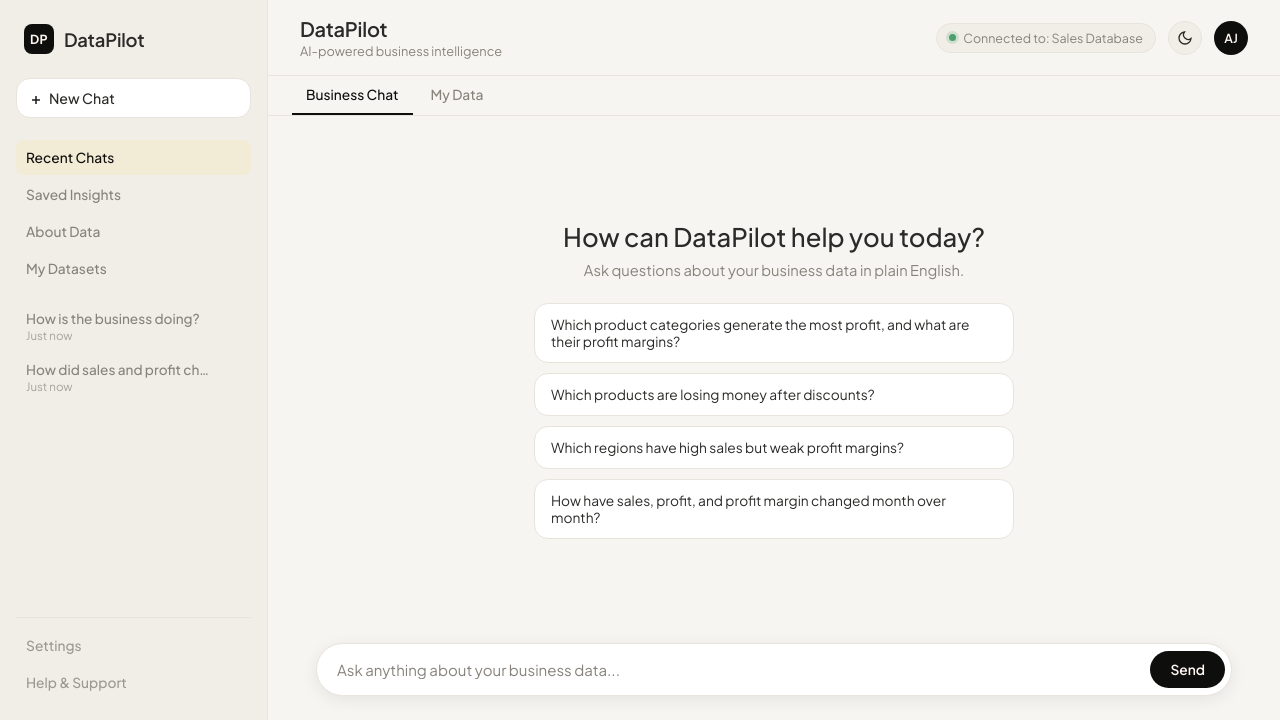
Test: clarification responses › sends the original question with a clarification reply
Step 1. Type "How is the business doing?" into the field with placeholder "Ask anything about your business data..." → coordinates (739, 670), box [337,650,1140,689]
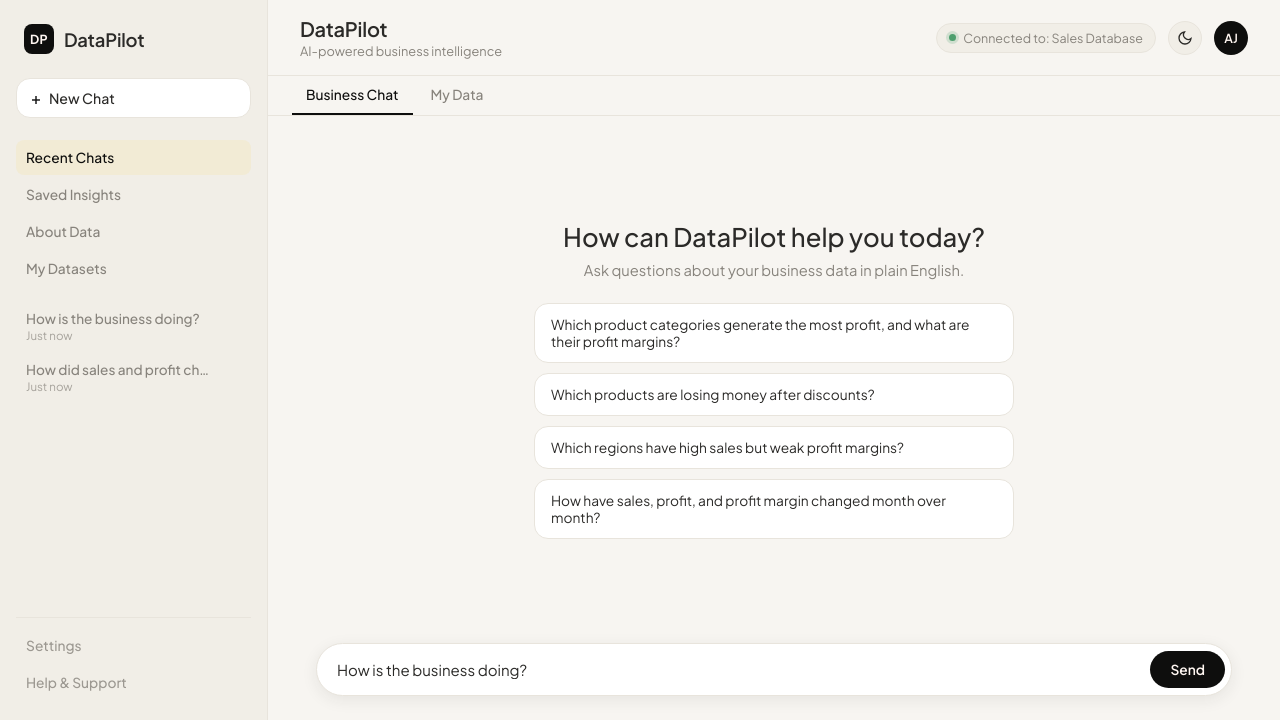
Step 2. Click the button "Send" → coordinates (1188, 670), box [1150,651,1225,688]
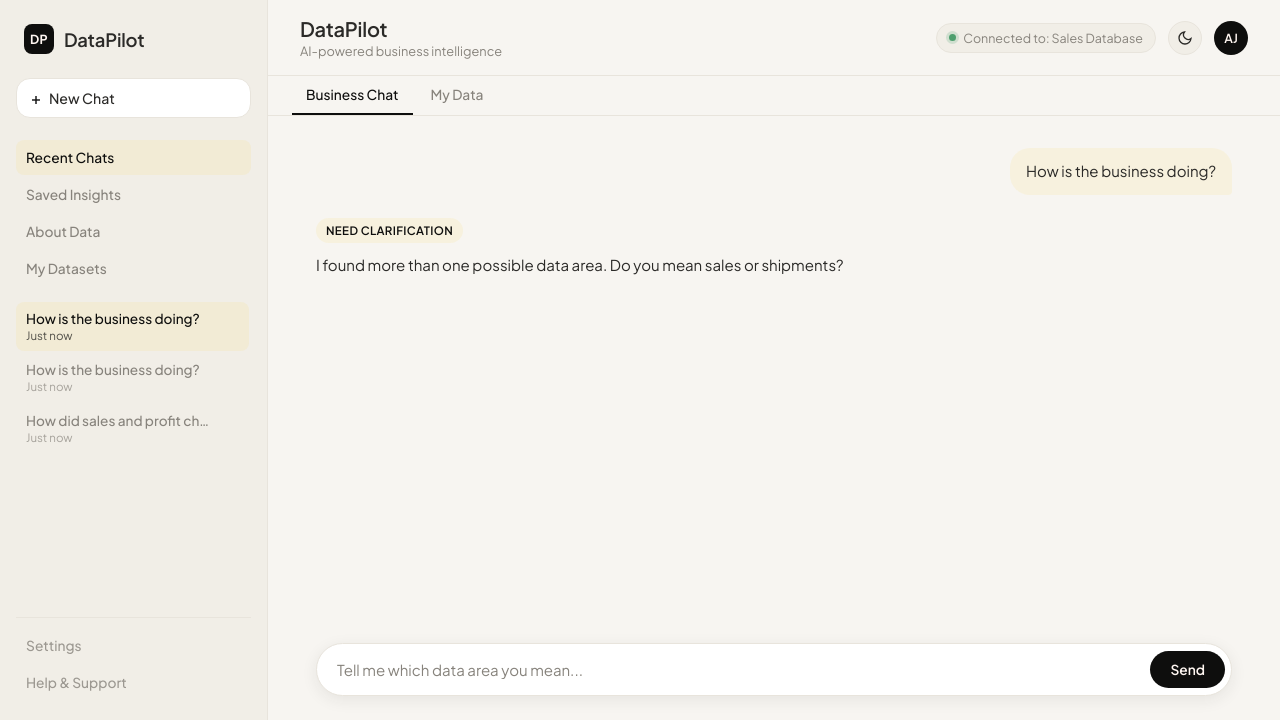
Expected: the text "I found more than one possible data area. Do you mean sales or shipments?" is shown, [316,255,844,274]
Step 3. Type "sales" into the field with placeholder "Tell me which data area you mean..." → coordinates (739, 670), box [337,650,1140,689]
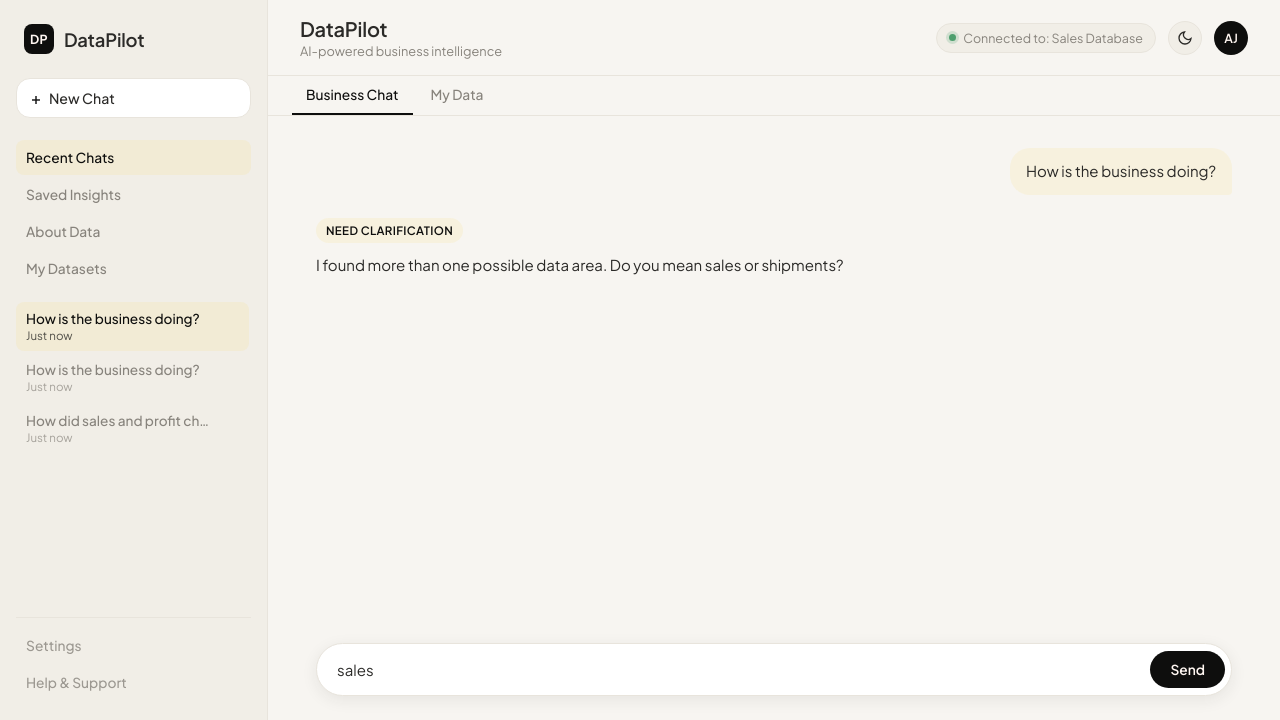
Step 4. Click the button "Send" → coordinates (1188, 670), box [1150,651,1225,688]
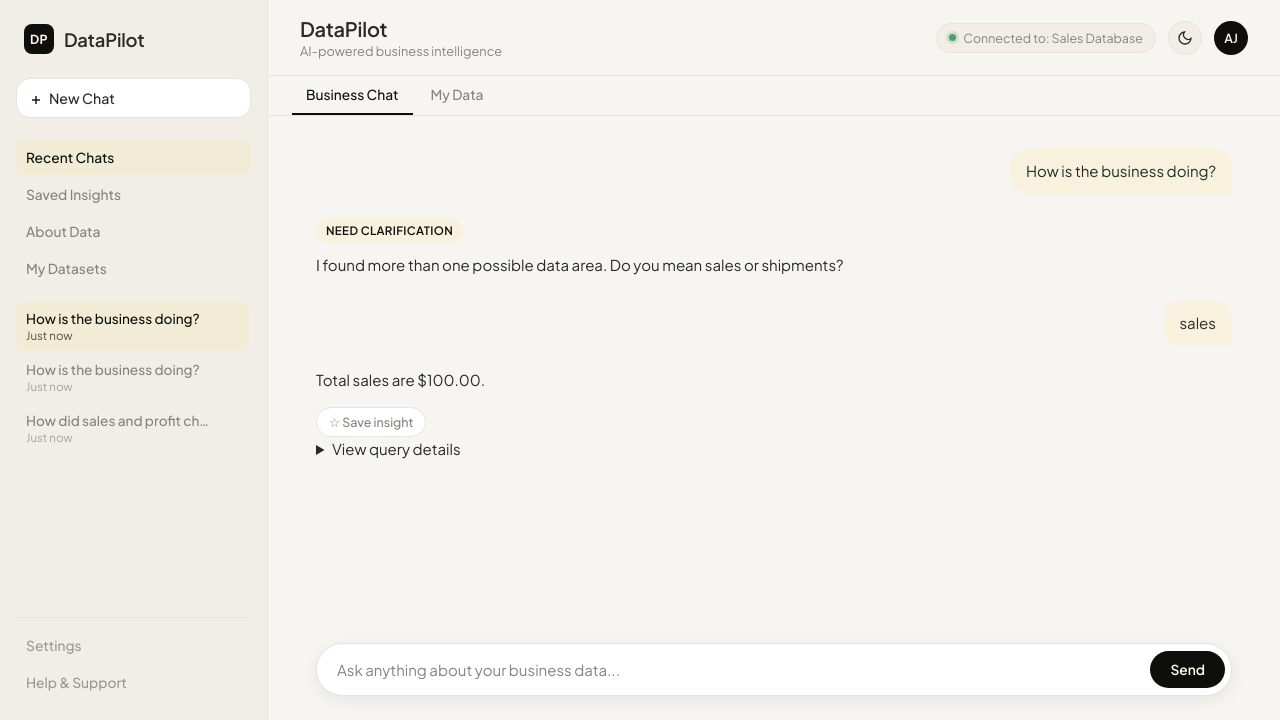
Expected: the text "Total sales are $100.00." is shown, [316,370,485,389]
